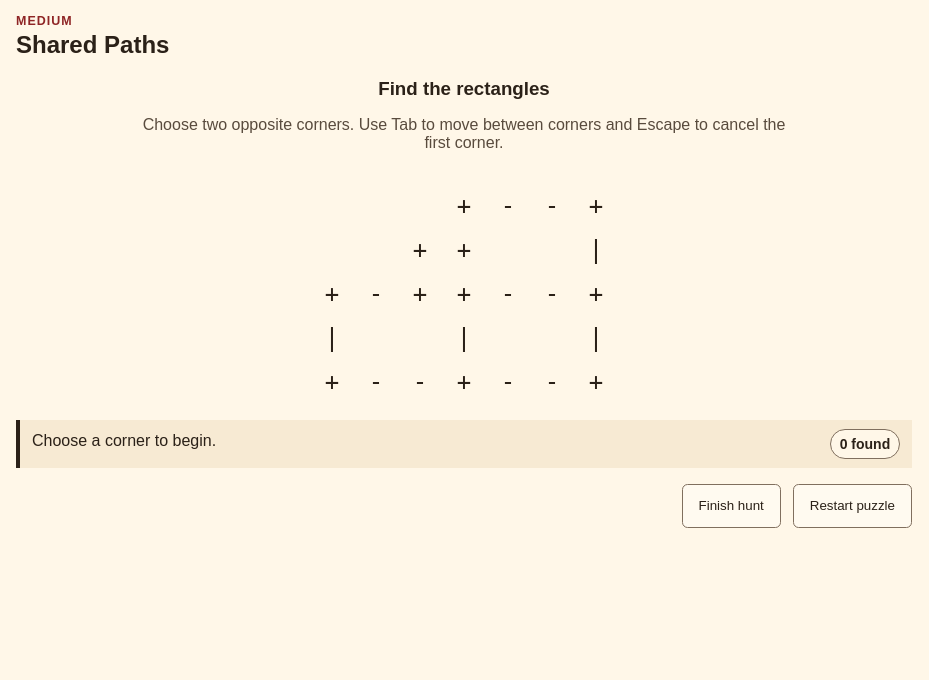
it: Rectangle Hunt game loop › does not recount a duplicate and focuses the discovery
Click the button named "Corner at row 1, column 4" at (464, 206), box [442,184,486,228]
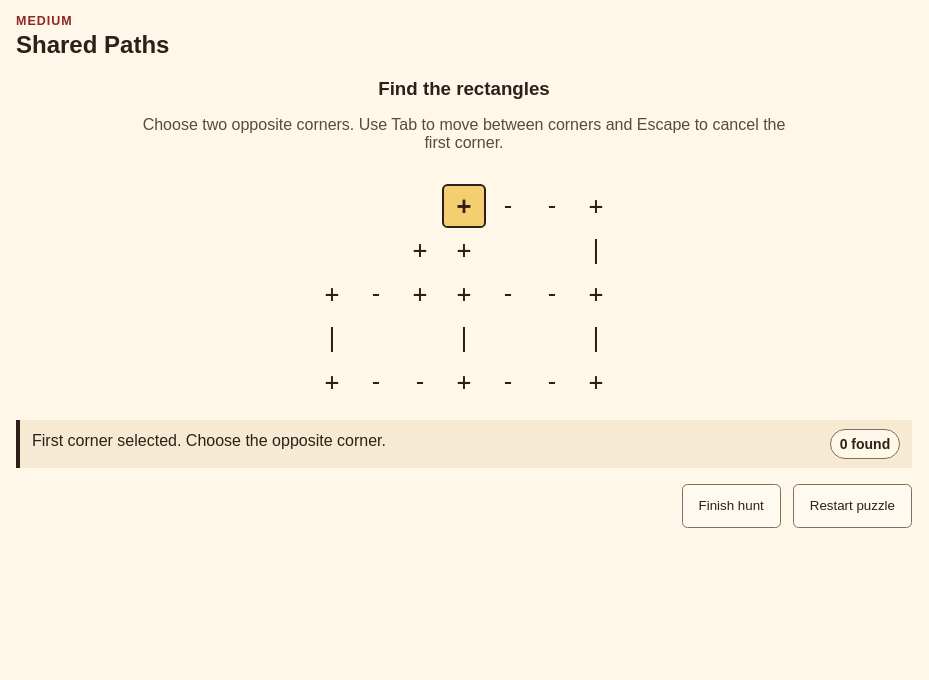
Click the 8th button "+" at (596, 294), box [574,272,618,316]
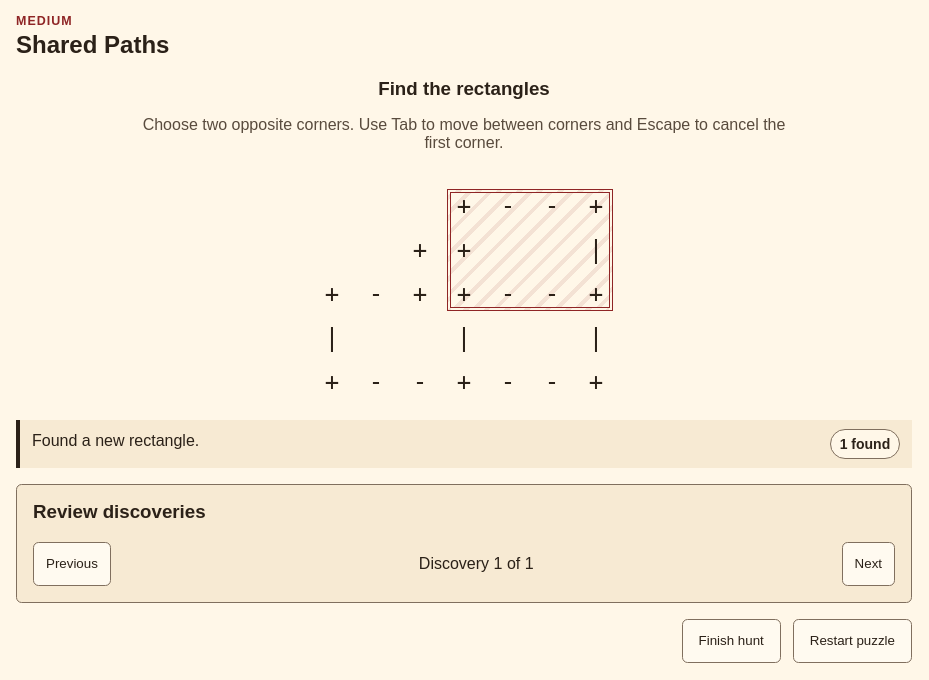
Click the 8th button "+" at (596, 294), box [574,272,618,316]
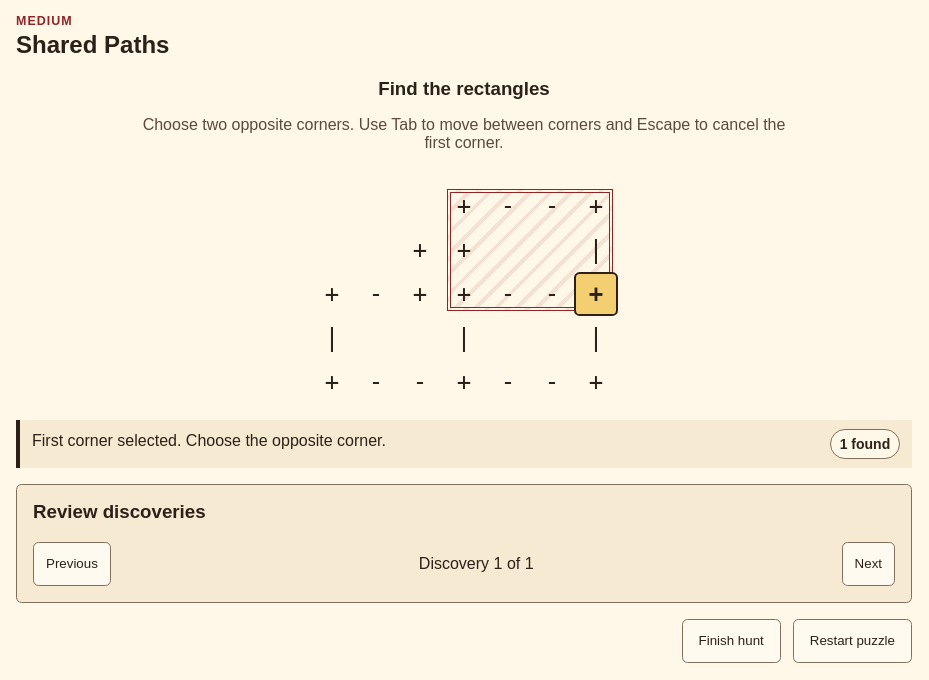
Click the button named "Corner at row 1, column 4" at (464, 206), box [442,184,486,228]
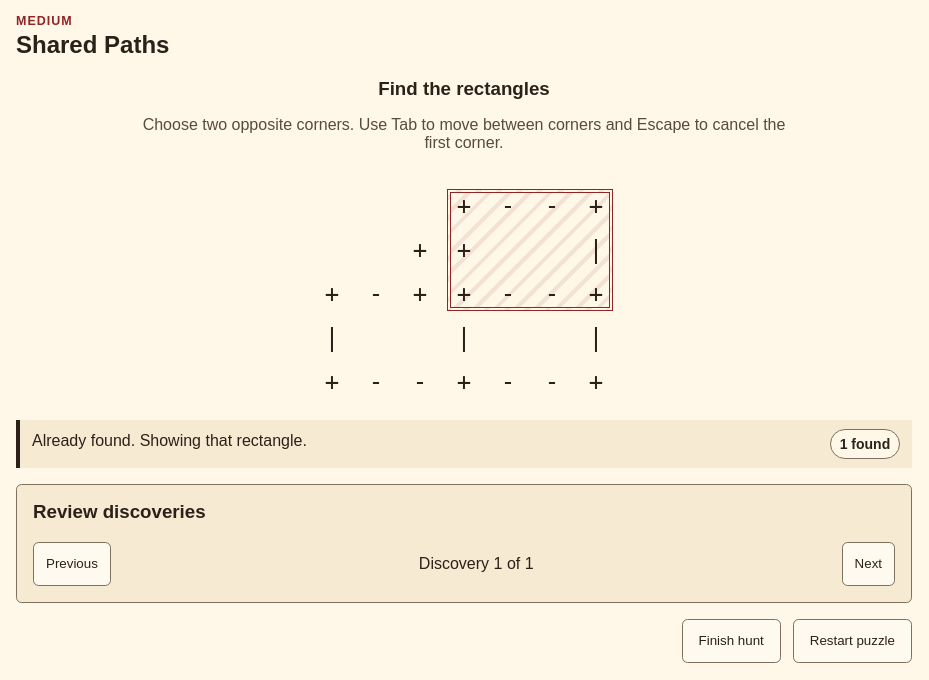
Result: the text named "1 rectangle found" reads "1 found" at [830,429,900,458]
Result: the message named "Game status" reads "Already found. Showing that rectangle." at [32,432,307,449]
